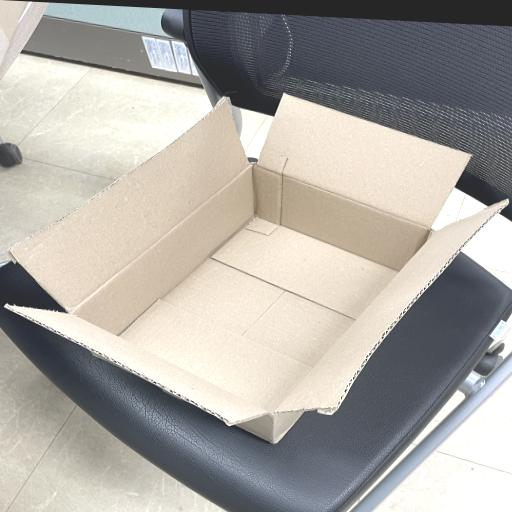box: (2, 92, 509, 444)
opened: (4, 92, 509, 428)
